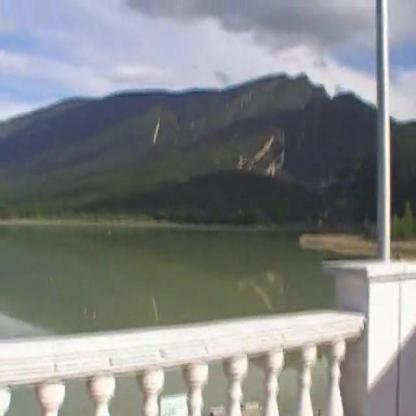other: (349, 256, 412, 354)
